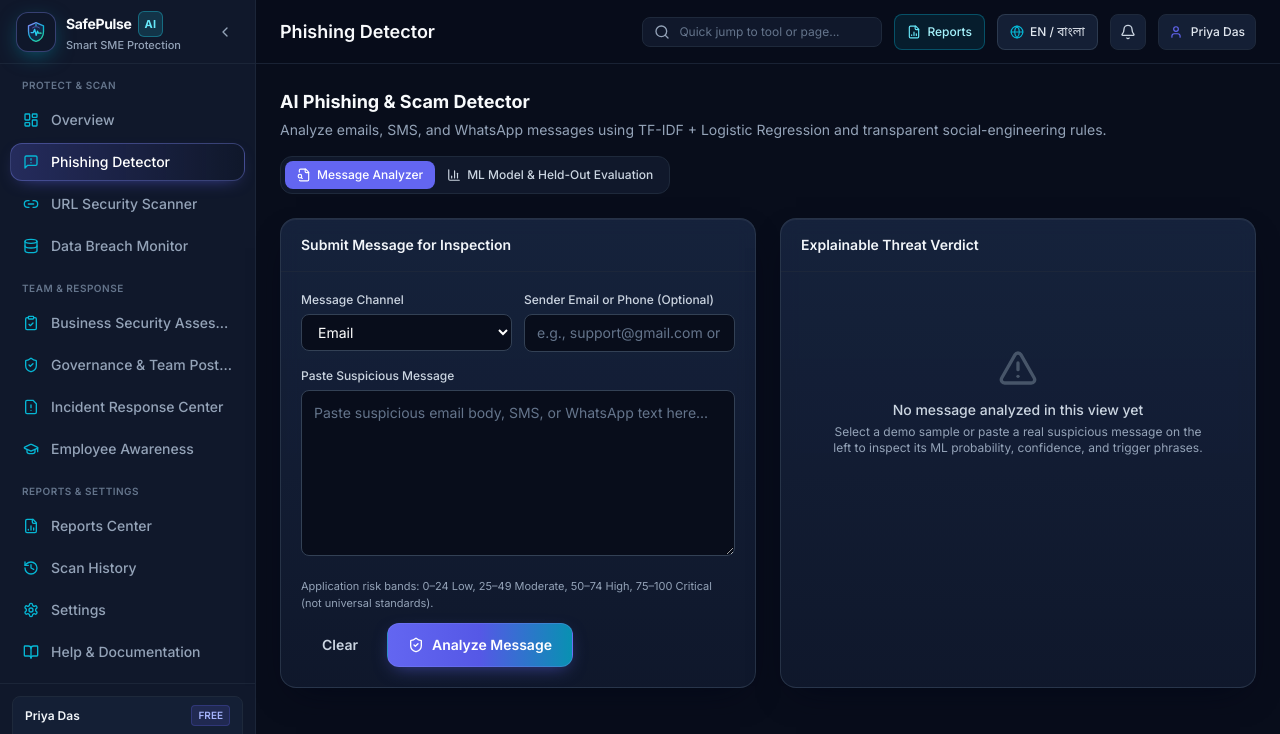
Test: SafePulse AI Frontend › loads authenticated phishing detector, submits message, and renders risk score + highlights
Expected: the heading "AI Phishing & Scam Detector" is shown, x1=280 y1=91 x2=530 y2=112
Type "URGENT: Verify your OTP now at http://sbi-kyc.xyz/login" into the text box labelled "Paste Suspicious Message" at (518, 473), box x1=301 y1=390 x2=735 y2=556
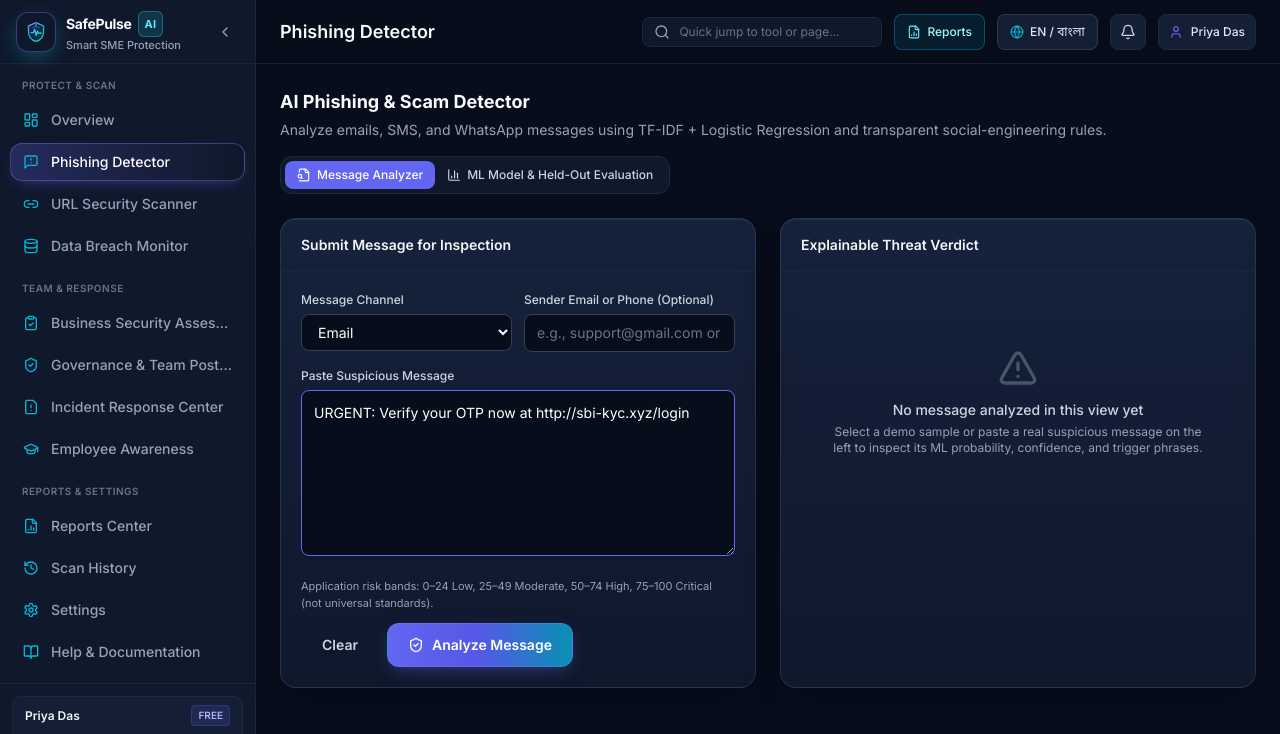
Click the button "Analyze Message" at (480, 645), box x1=387 y1=623 x2=573 y2=667
(page scrolled)
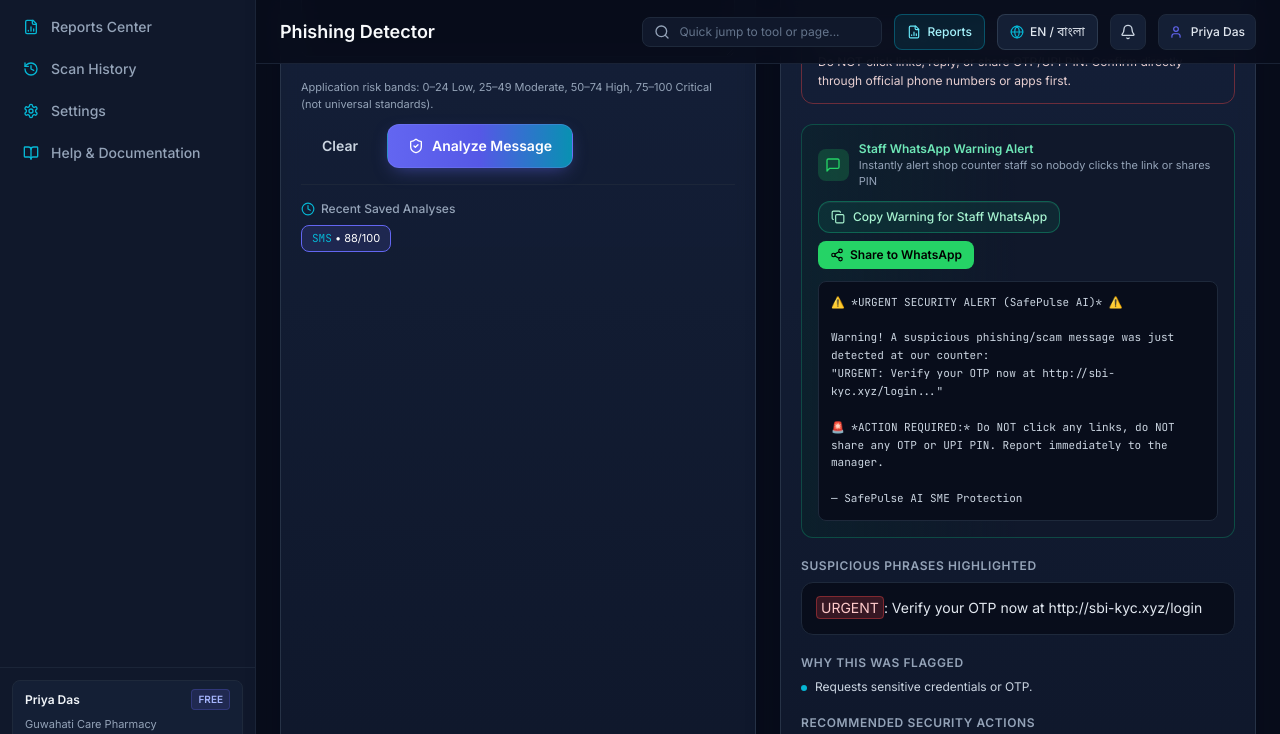
Result: the text "Requests sensitive credentials or OTP." is shown at x1=815 y1=679 x2=1032 y2=695
